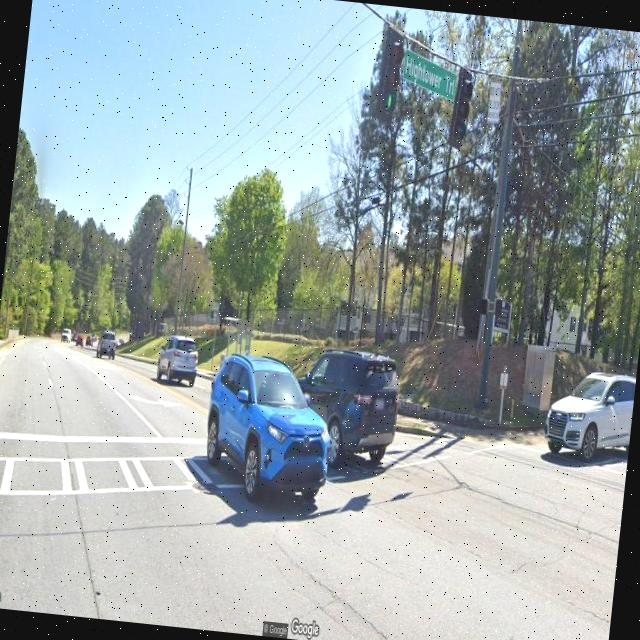shelter: (218, 314, 254, 372)
trash_can: (218, 352, 225, 370)
